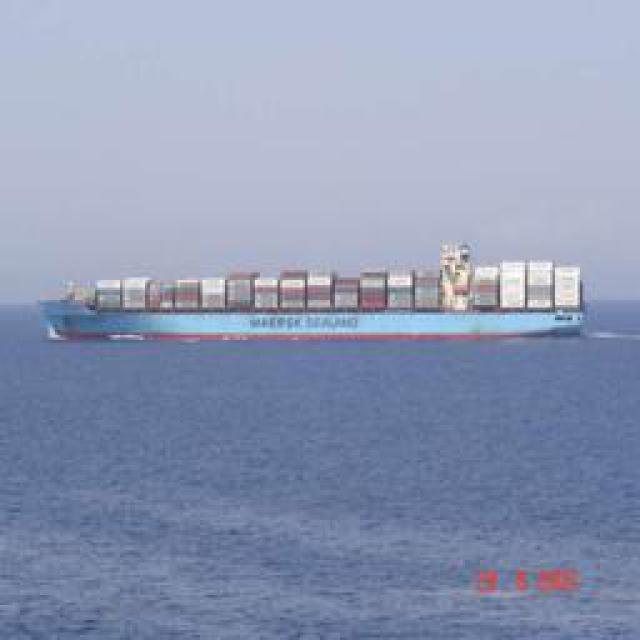Ship: (24, 261, 584, 346)
